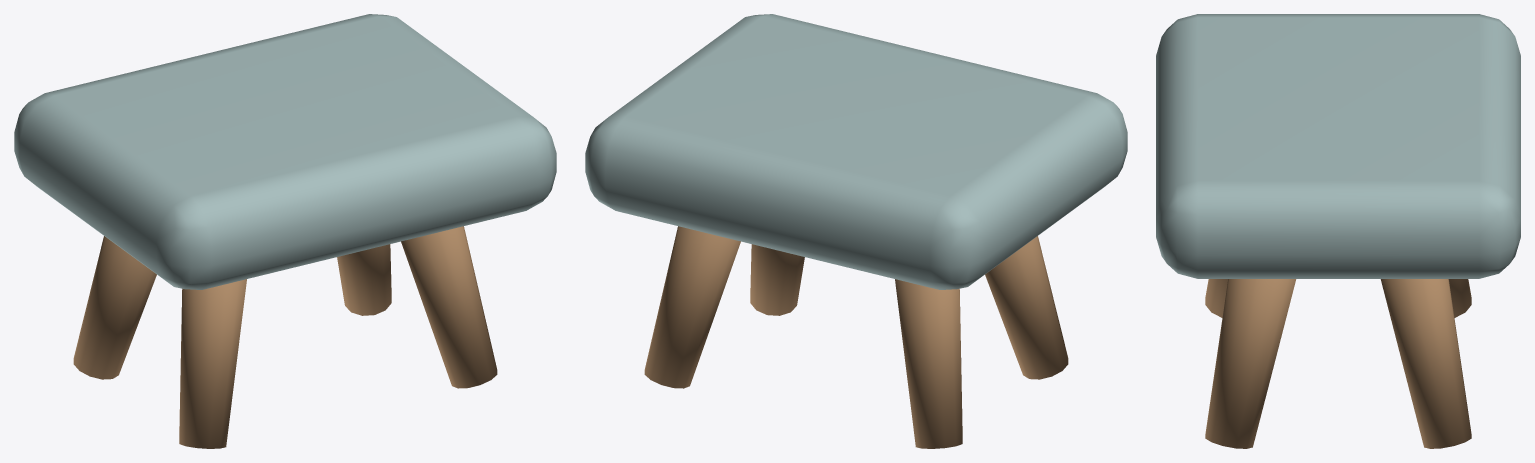
Rendered from atelier-meditation-stool.glb.
3 views of the same model, side by side, from view 1: azimuth 30°, elevation 25°; view 2: azimuth 150°, elevation 25°; view 3: azimuth 270°, elevation 25° (orthographic). The views are drawn at different scales.
Visible parts, largest first — view 1: fabric.109, legs.237; view 2: fabric.109, legs.237; view 3: fabric.109, legs.237.
Boxes of the visible parts, x1=… form: fabric.109: x1=14, y1=14, x2=556, y2=289; legs.237: x1=73, y1=226, x2=497, y2=448; fabric.109: x1=585, y1=14, x2=1127, y2=289; legs.237: x1=644, y1=226, x2=1068, y2=448; fabric.109: x1=1156, y1=14, x2=1520, y2=278; legs.237: x1=1205, y1=279, x2=1471, y2=448.
Bounding box in the file's own units: 0.45 × 0.2965 × 0.35.
